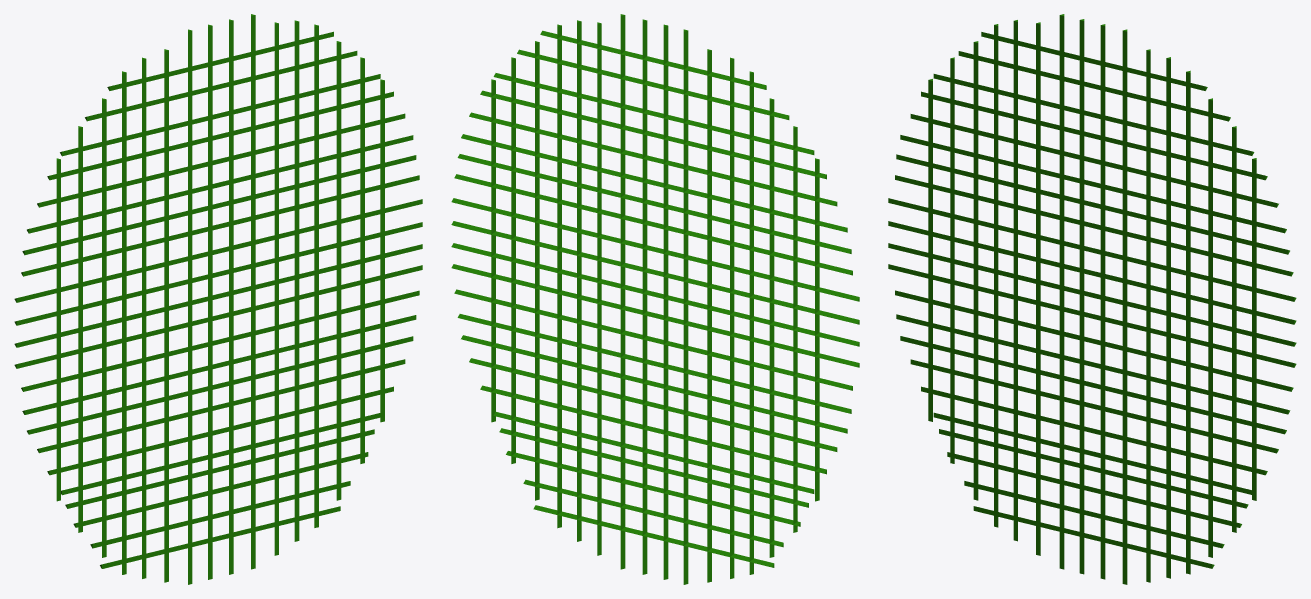
Rendered from MeshCube_1755_0_GeomSubset_2.obj.
The picture shows the model from 3 angles, left to right: view 1: azimuth 30°, elevation 25°; view 2: azimuth 150°, elevation 25°; view 3: azimuth 330°, elevation 25°; orthographic projection.
Visible parts, largest first — view 1: MeshCube_1755_0_GeomSubset_2; view 2: MeshCube_1755_0_GeomSubset_2; view 3: MeshCube_1755_0_GeomSubset_2.
Boxes of the visible parts, x1,y1,x2,y2 form: MeshCube_1755_0_GeomSubset_2: (14,14,422,584); MeshCube_1755_0_GeomSubset_2: (451,14,859,584); MeshCube_1755_0_GeomSubset_2: (888,14,1296,584).
Bounding box in the file's own units: 0.2516 × 0.3277 × 0.00246.
